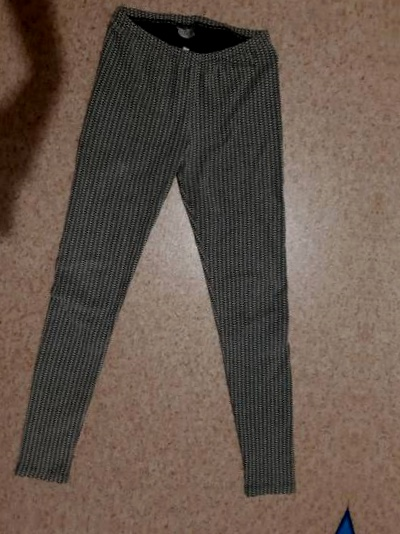Pants: (2, 0, 336, 521)
